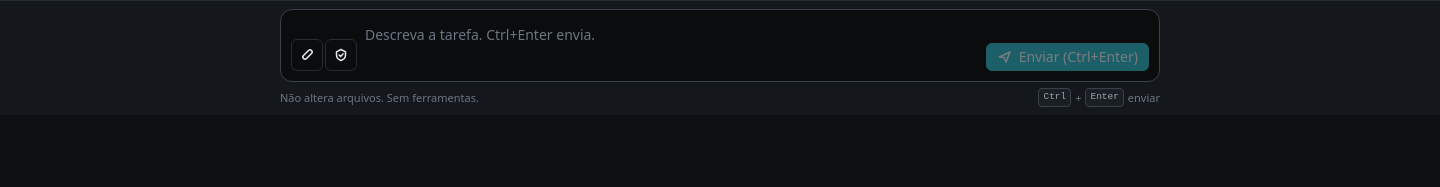
Test: Composer › anexa arquivos pelo diálogo nativo
This screenshot has width=1440, height=187.
Click the button named "Anexar arquivos" at (307, 55), box [291,39,323,71]
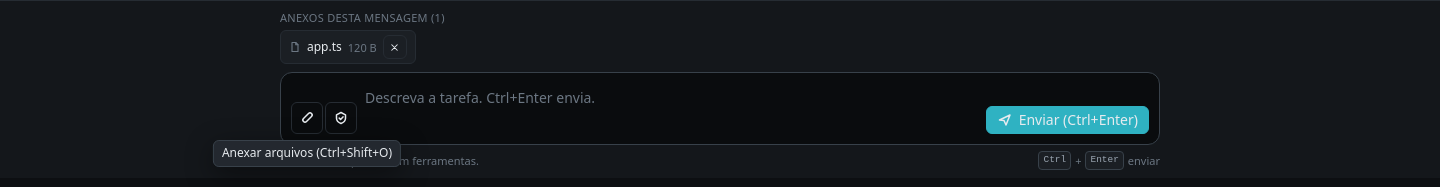
Expected: the text "app.ts" is shown, [307,38,342,56]
Expected: the text "Anexos desta mensagem (1)" is shown, [280,10,445,25]
